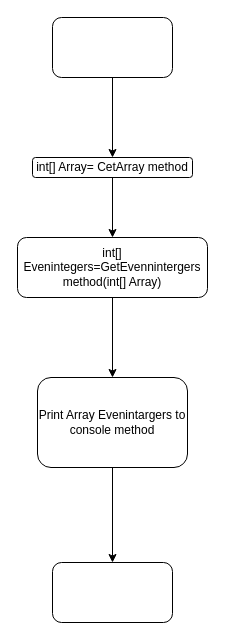
The diagram is 225 pixels wide and 640 high, and some of its shapes have lost their labels. Each missing label, with the centre of its shape:
"END" goes at (112,592).
"START" goes at (112,47).
